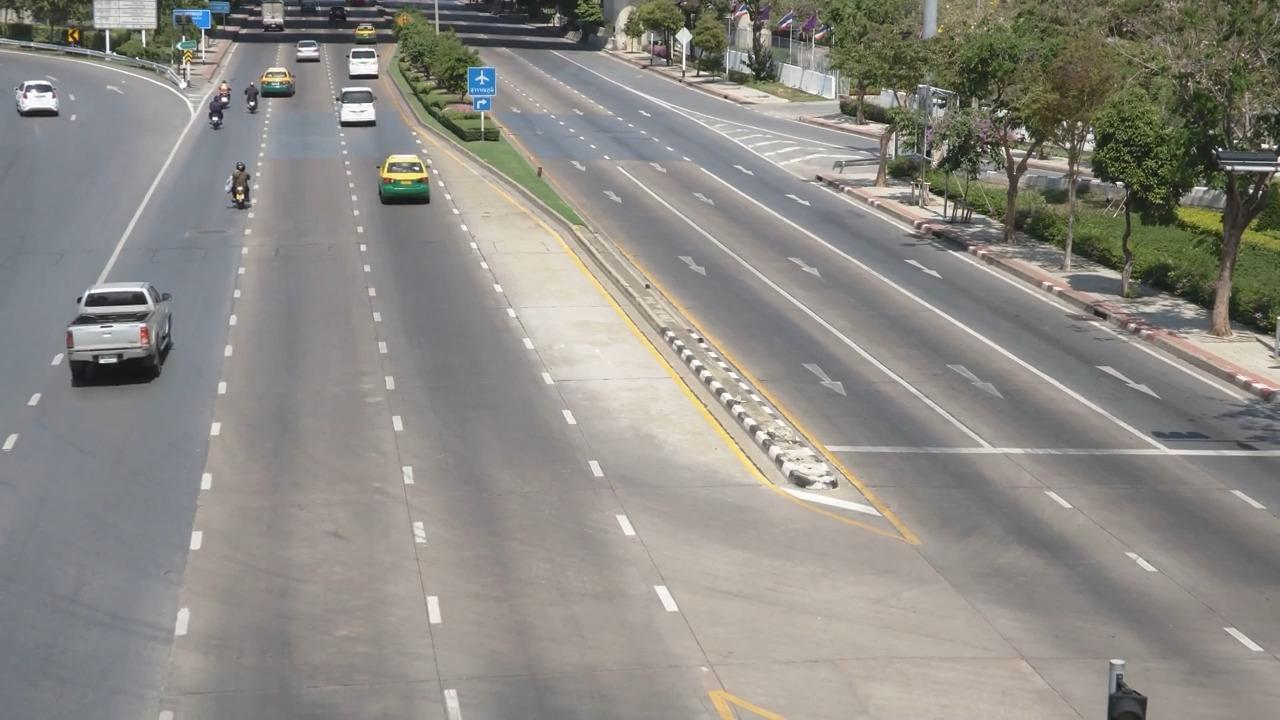CAR: (58, 269, 191, 399), (371, 145, 450, 220), (334, 81, 393, 143), (9, 72, 70, 131), (340, 41, 392, 88), (287, 34, 341, 75), (251, 64, 300, 109), (337, 22, 388, 58), (251, 4, 289, 43)
MOTOR: (213, 160, 262, 222), (232, 80, 270, 127), (195, 94, 230, 142)
